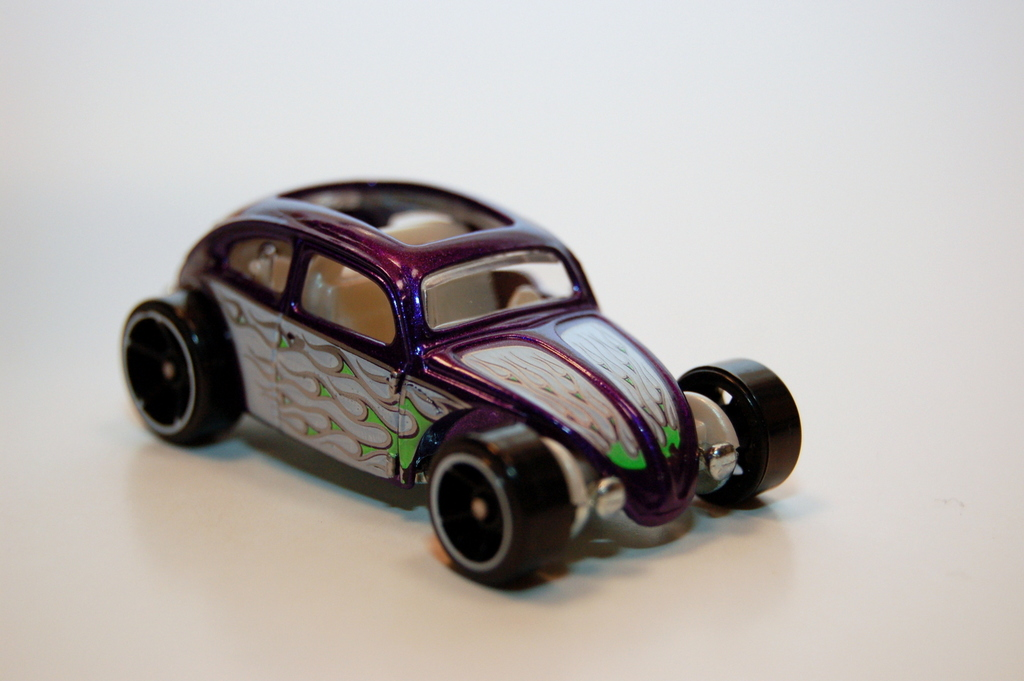Car: (114, 174, 801, 581)
